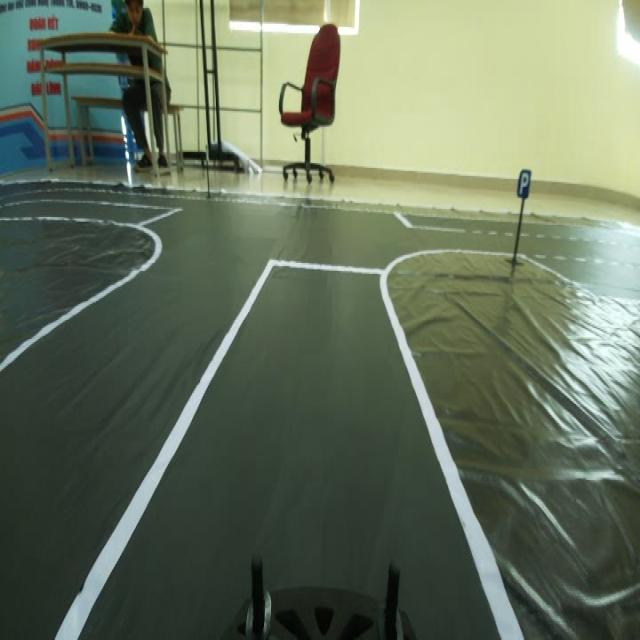parking: (515, 159, 534, 207)
